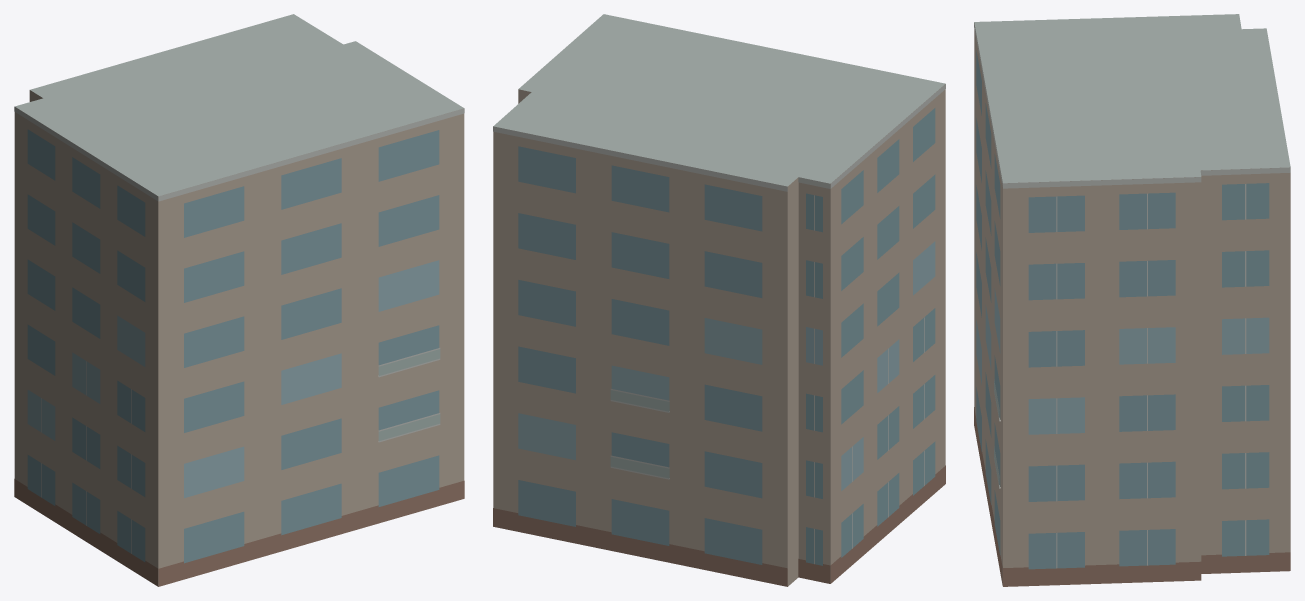
File: survey-upis-32956528.glb
The picture shows the model from 3 angles, left to right: view 1: azimuth 30°, elevation 25°; view 2: azimuth 150°, elevation 25°; view 3: azimuth 270°, elevation 25°; orthographic projection. The views are drawn at different scales.
Visible parts, largest first — view 1: survey-upis-32956528.tmp; view 2: survey-upis-32956528.tmp; view 3: survey-upis-32956528.tmp.
Boxes of the visible parts, left/top/right/bottom form: survey-upis-32956528.tmp: left=14, top=14, right=464, bottom=586; survey-upis-32956528.tmp: left=493, top=14, right=945, bottom=586; survey-upis-32956528.tmp: left=974, top=14, right=1290, bottom=586.
Size of the model in its own units: 16.47 by 18.3 by 13.02.
